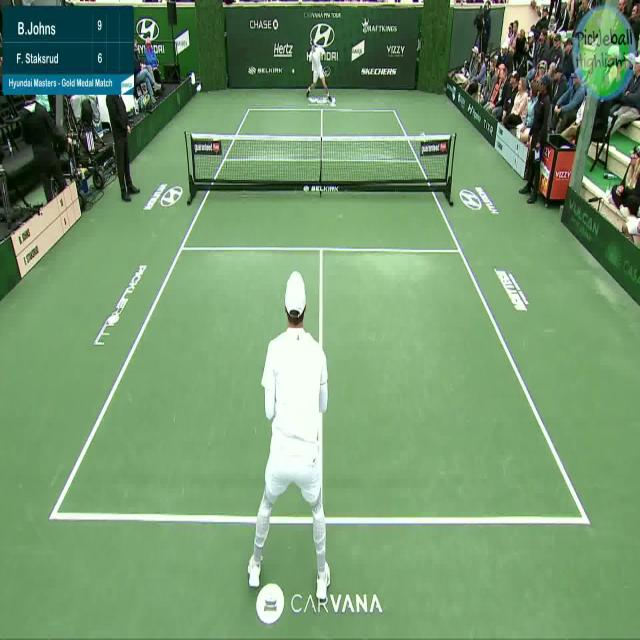ball: (291, 66, 294, 73)
